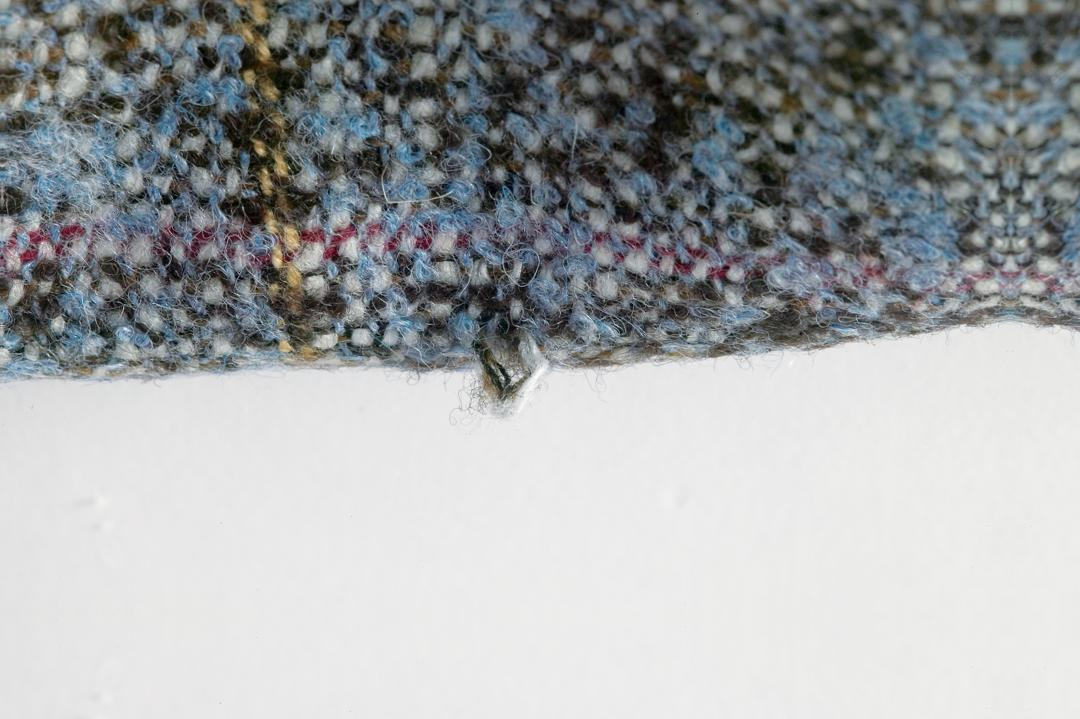snag: (449, 308, 563, 422)
